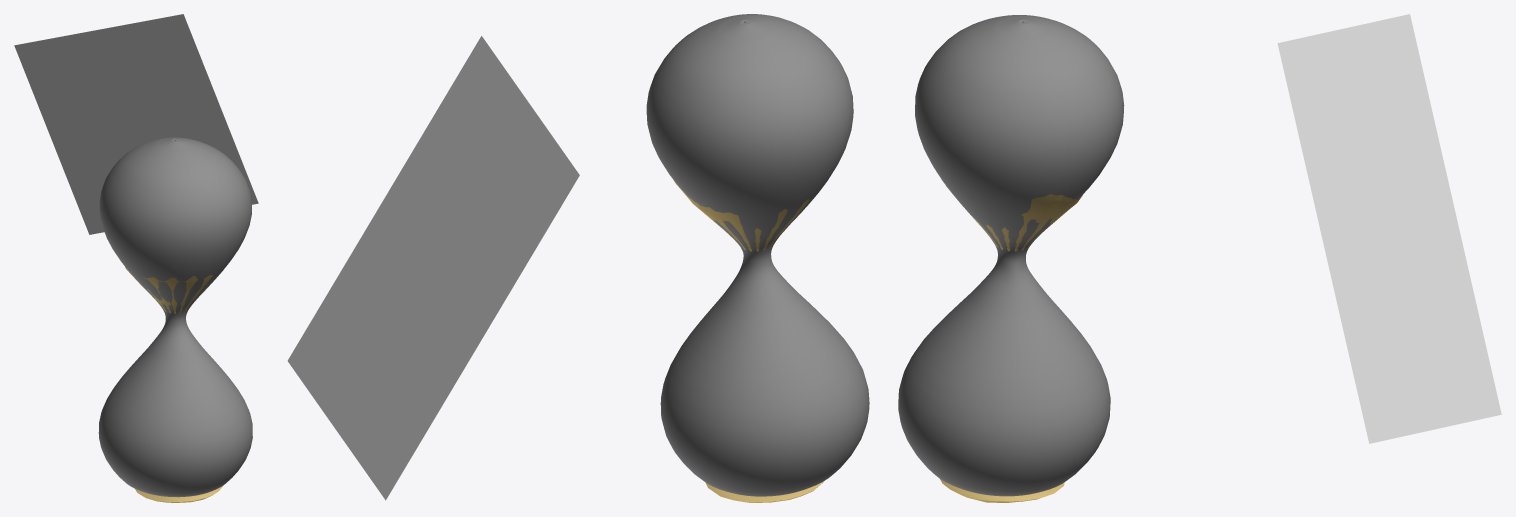
The model's file is Hourglass.fbx.
3 renders of one model, left to right at view 1: azimuth 30°, elevation 25°; view 2: azimuth 150°, elevation 25°; view 3: azimuth 270°, elevation 25°, orthographic. The views are drawn at different scales.
Parts seen in each view (by area): view 1: ampulhetaVidroDentro, pPlane1, areia_top, areia_down; view 2: ampulhetaVidroDentro, pPlane1, areia_top, areia_down; view 3: ampulhetaVidroDentro, pPlane1, areia_top, areia_down.
Part boxes in pixels (x1,y1,x2,y2): ampulhetaVidroDentro: (98, 137, 252, 497); pPlane1: (14, 14, 258, 234); areia_top: (125, 267, 212, 313); areia_down: (135, 486, 222, 502); ampulhetaVidroDentro: (646, 14, 869, 496); pPlane1: (287, 36, 579, 500); areia_top: (673, 179, 808, 251); areia_down: (705, 481, 824, 502); ampulhetaVidroDentro: (898, 15, 1124, 496); pPlane1: (1277, 14, 1501, 443); areia_top: (946, 186, 1082, 251); areia_down: (940, 479, 1064, 502).
Size of the model in its own units: 22.11 by 28.58 by 29.95.
